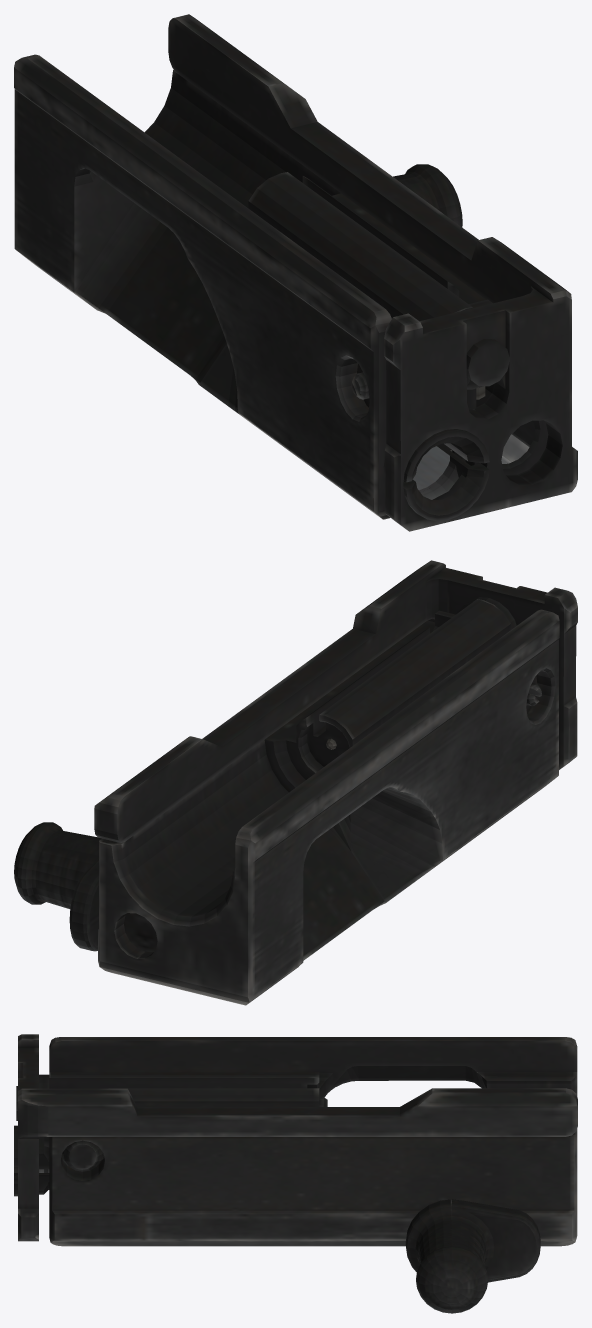
The picture shows the model from 3 angles, top to bottom: view 1: azimuth 30°, elevation 25°; view 2: azimuth 150°, elevation 25°; view 3: azimuth 270°, elevation 25°; orthographic projection. The views are drawn at different scales.
Visible parts, largest first — view 1: TW_6680304edadb7aa61d00cef0_PZ_Import; view 2: TW_6680304edadb7aa61d00cef0_PZ_Import; view 3: TW_6680304edadb7aa61d00cef0_PZ_Import.
Boxes of the visible parts, bbox=[...] form: TW_6680304edadb7aa61d00cef0_PZ_Import: bbox=[14, 14, 577, 531]; TW_6680304edadb7aa61d00cef0_PZ_Import: bbox=[14, 560, 577, 1005]; TW_6680304edadb7aa61d00cef0_PZ_Import: bbox=[14, 1034, 577, 1313].
Bounding box in the file's own units: 0.0344 × 0.0649 × 0.0221.
1 material, 1 textured.
